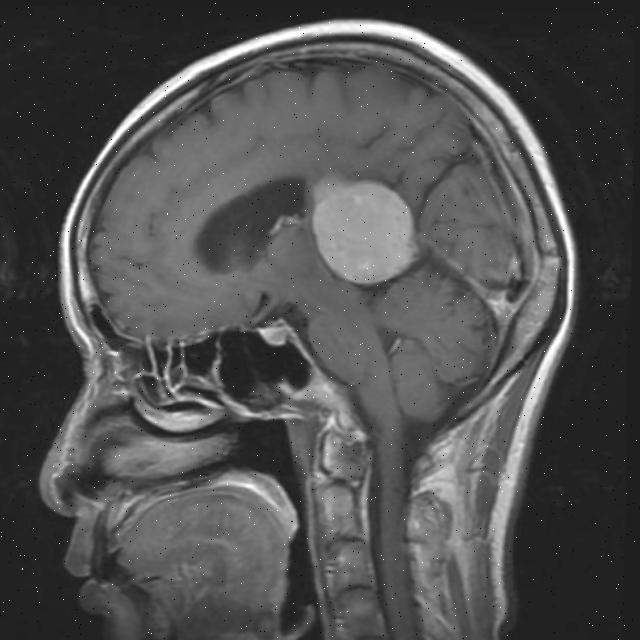Meningioma: (306, 165, 424, 288)
Pituitary: (255, 314, 294, 349)
